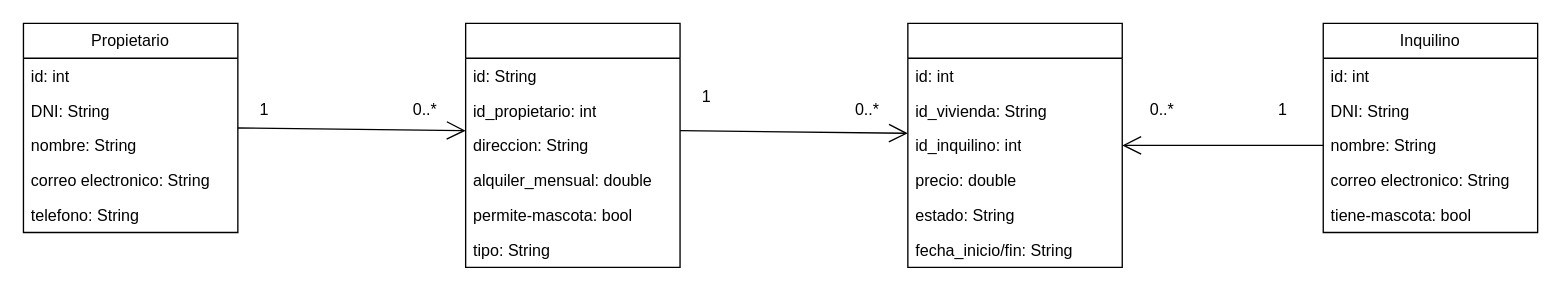
Image size: 1561x295. Some labels were removed from this diagram. The box of each missing label's shape, as (x1, y1, x2, y2) in pixels:
Contrato: (907, 22, 1122, 267)
Vivienda: (464, 22, 680, 267)
